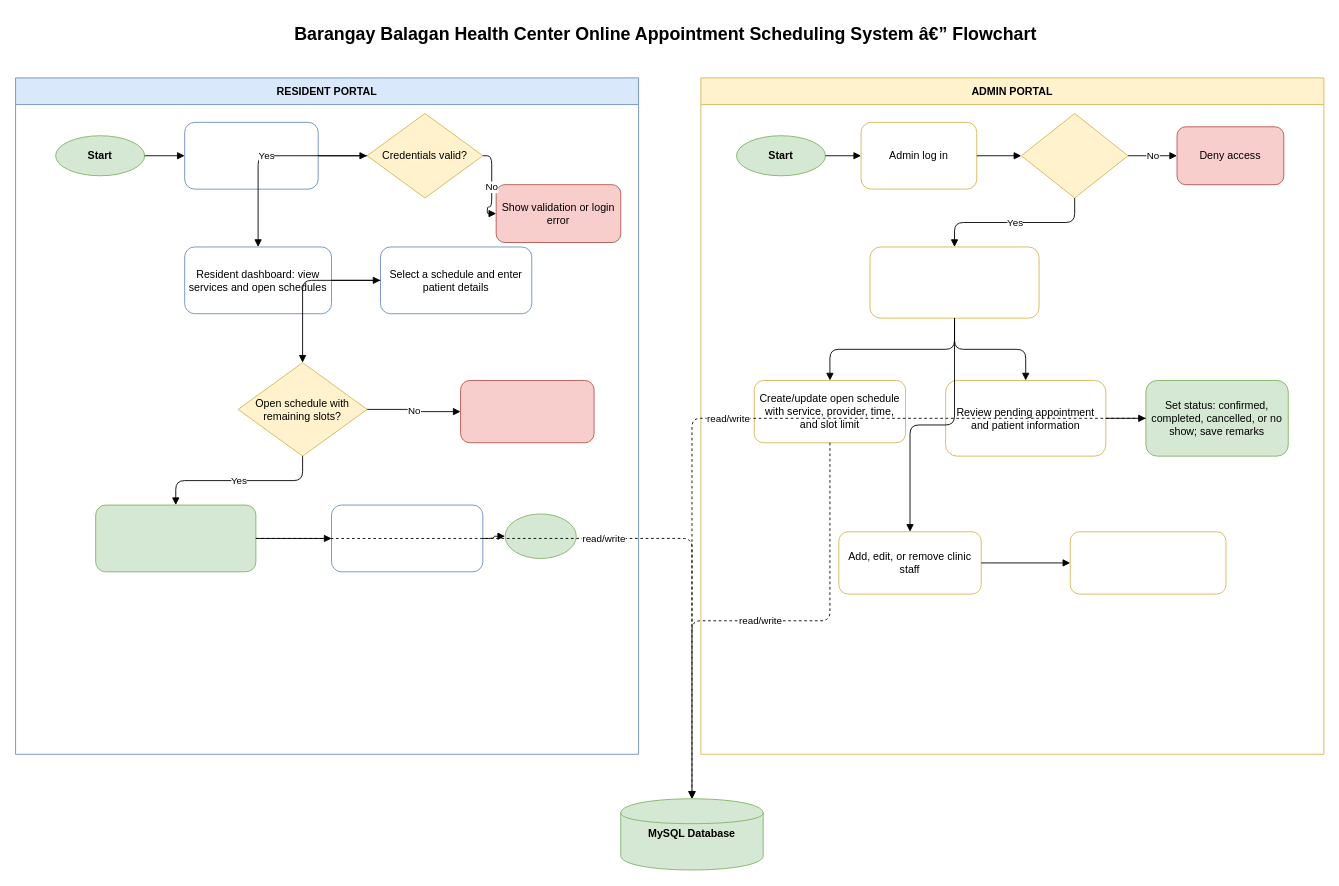
Some shapes in this 1339 by 886 pixel diagram are drawn without their labels. Here are the shapes that lost their labels. From the top down, the centre of each, then its label:
At [251,155]: "Register account or log in".
At [1074,155]: "Admin role?".
At [954,282]: "Admin dashboard: manage appointments, schedules, and clinic staff".
At [527,411]: "Notify resident: schedule unavailable or full".
At [175,538]: "Create patient record and pending appointment code".
At [407,538]: "Track appointment status and staff remarks".
At [540,535]: "End".
At [1147,562]: "Monitor dashboard counts and schedule capacity".
